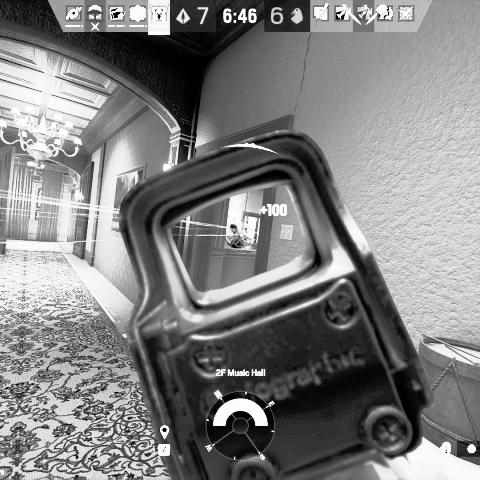Character: (225, 222, 248, 248)
Head: (228, 223, 238, 233)
